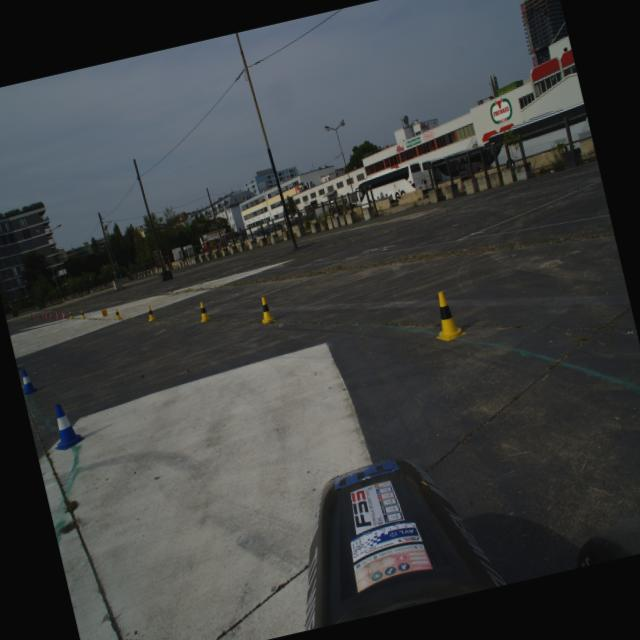blue_cone: (45, 399, 86, 452), (18, 366, 39, 394)
large_orange_cone: (28, 312, 32, 318)
orange_cone: (60, 310, 66, 318), (54, 311, 60, 319), (44, 312, 49, 319), (48, 312, 53, 318), (41, 312, 45, 318), (36, 313, 40, 319), (33, 314, 37, 318), (32, 314, 34, 318)
yellow_cone: (426, 287, 466, 343), (256, 295, 276, 324), (196, 300, 212, 322), (145, 305, 156, 321), (113, 308, 122, 320), (100, 308, 108, 316), (80, 310, 86, 318), (68, 310, 74, 318)
